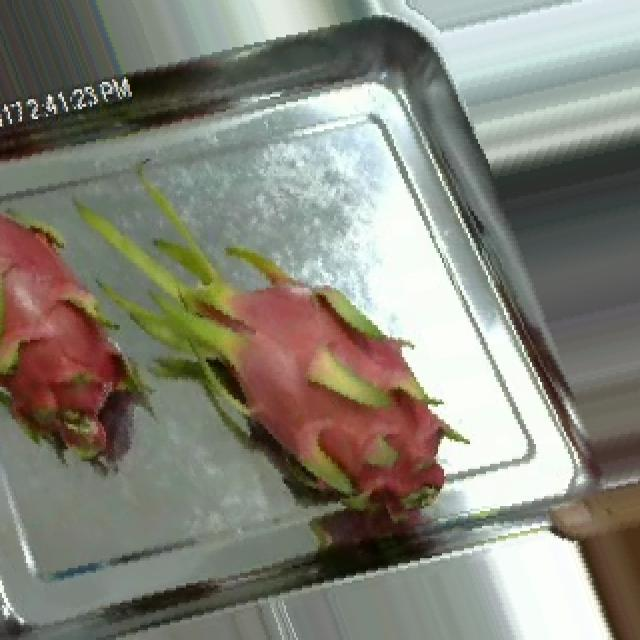Fruit: (524, 456, 640, 640)
